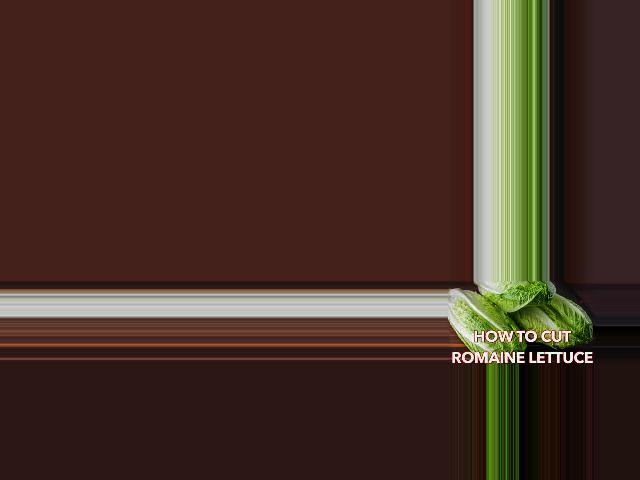lettuce: (504, 288, 596, 355)
